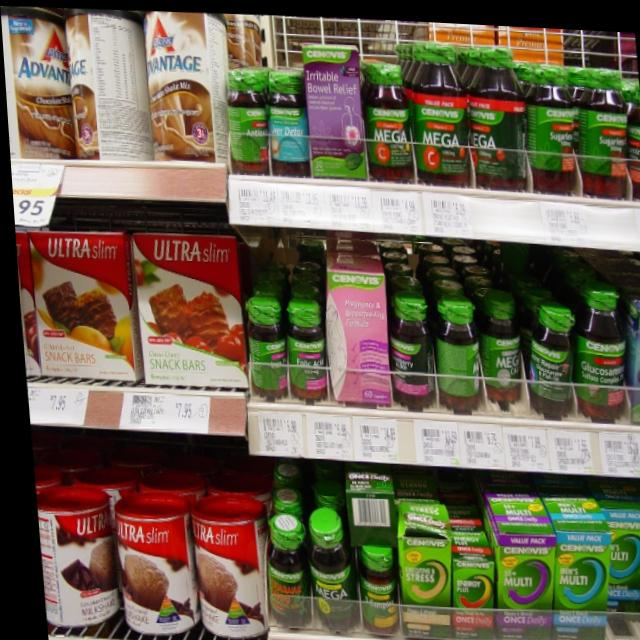q184: (444, 534, 492, 640)
q199: (104, 498, 188, 636), (31, 493, 116, 624), (181, 509, 260, 640)
